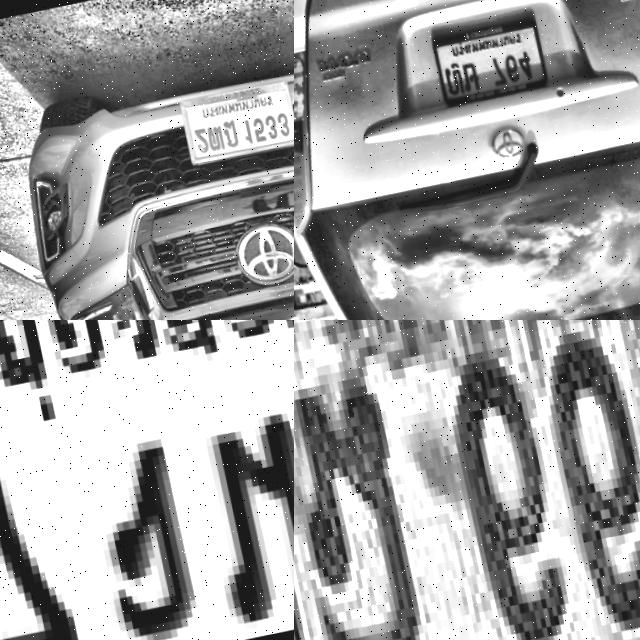license-plate: (294, 320, 640, 640), (0, 320, 294, 640), (425, 15, 549, 115), (173, 75, 294, 170)
